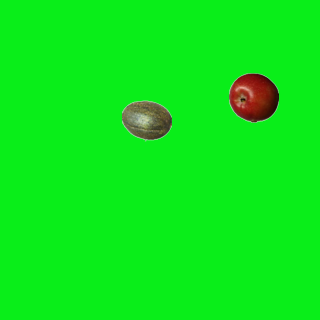Apple Braeburn: (228, 72, 278, 122)
Melon Piel de Sapo: (121, 95, 171, 145)
